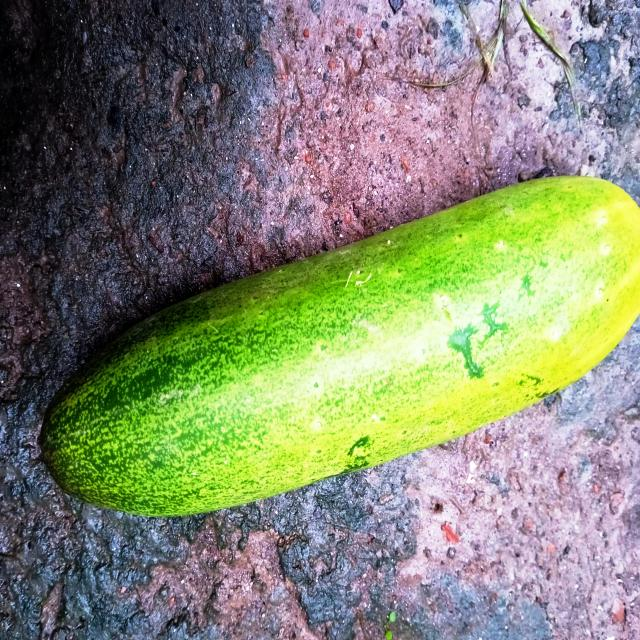Fresh-Cucumber: (36, 171, 640, 523)
